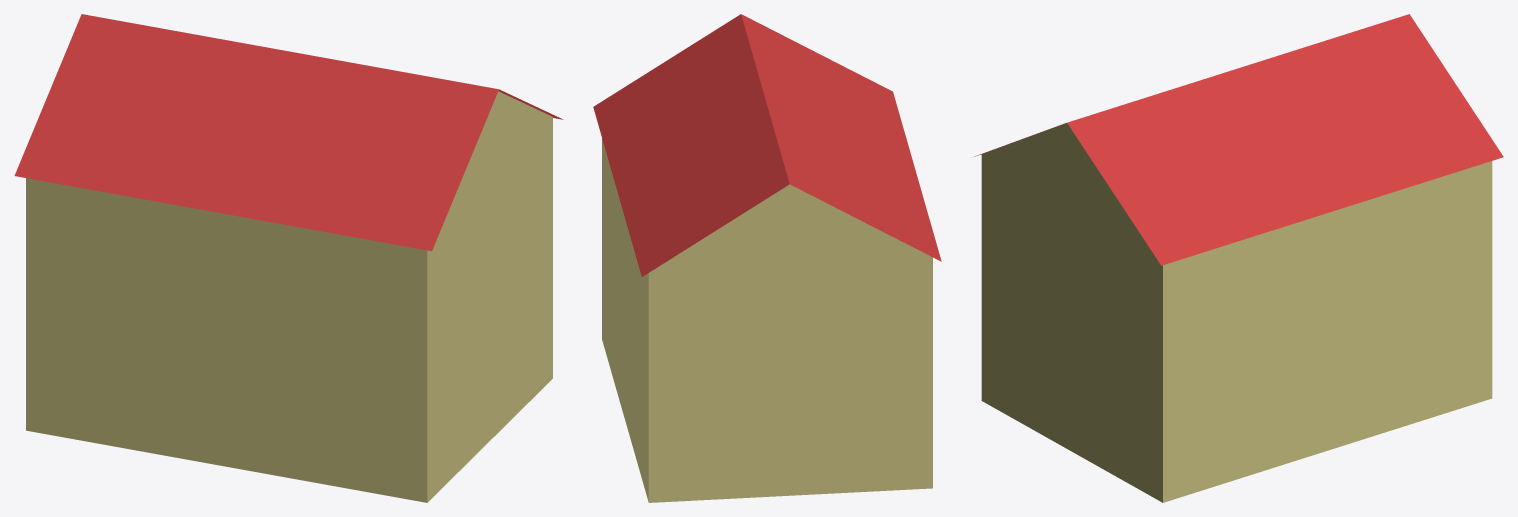
3 views of the same model, side by side, from view 1: azimuth 30°, elevation 25°; view 2: azimuth 150°, elevation 25°; view 3: azimuth 270°, elevation 25° (orthographic). The views are drawn at different scales.
Bounding box in the file's own units: 15.39 × 16.05 × 11.02.
